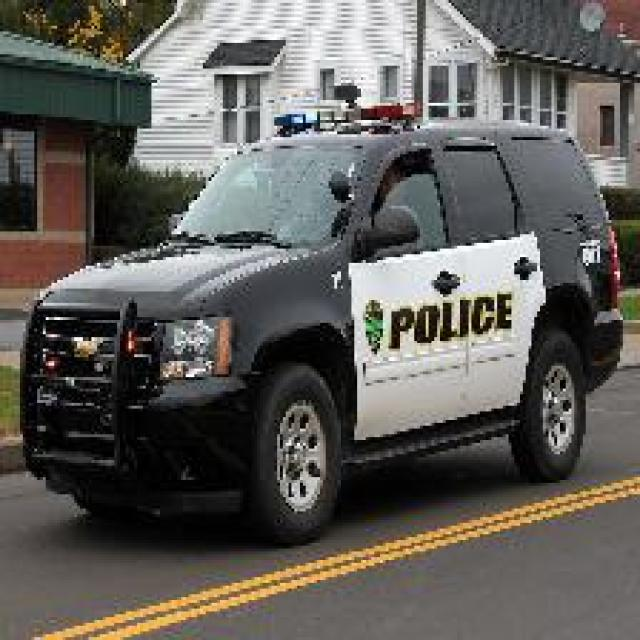Police-car: (17, 97, 623, 543)
